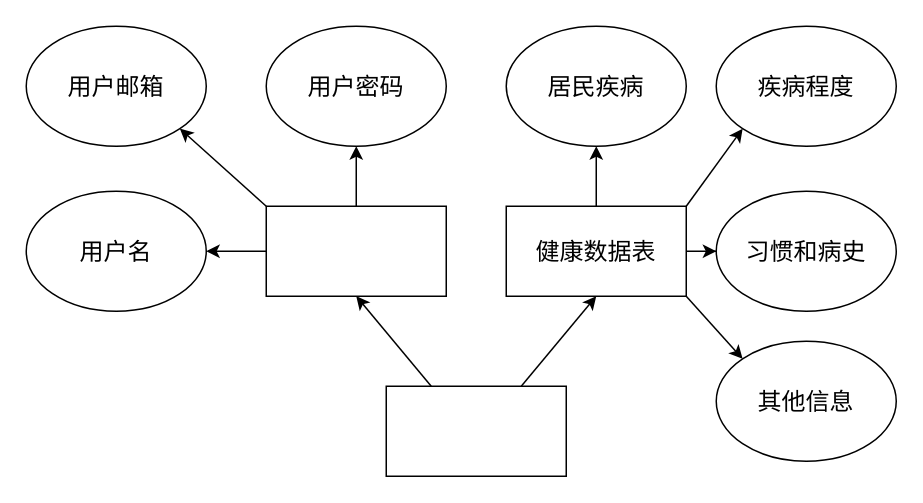
Image size: 923x503. Some labels were removed from this diagram. Each missing label, with the centre of its shape:
"数据库" belongs at point (475, 430).
"用户表" belongs at point (355, 250).
